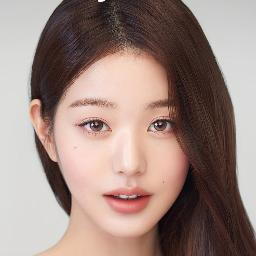face: (56, 55, 190, 233)
